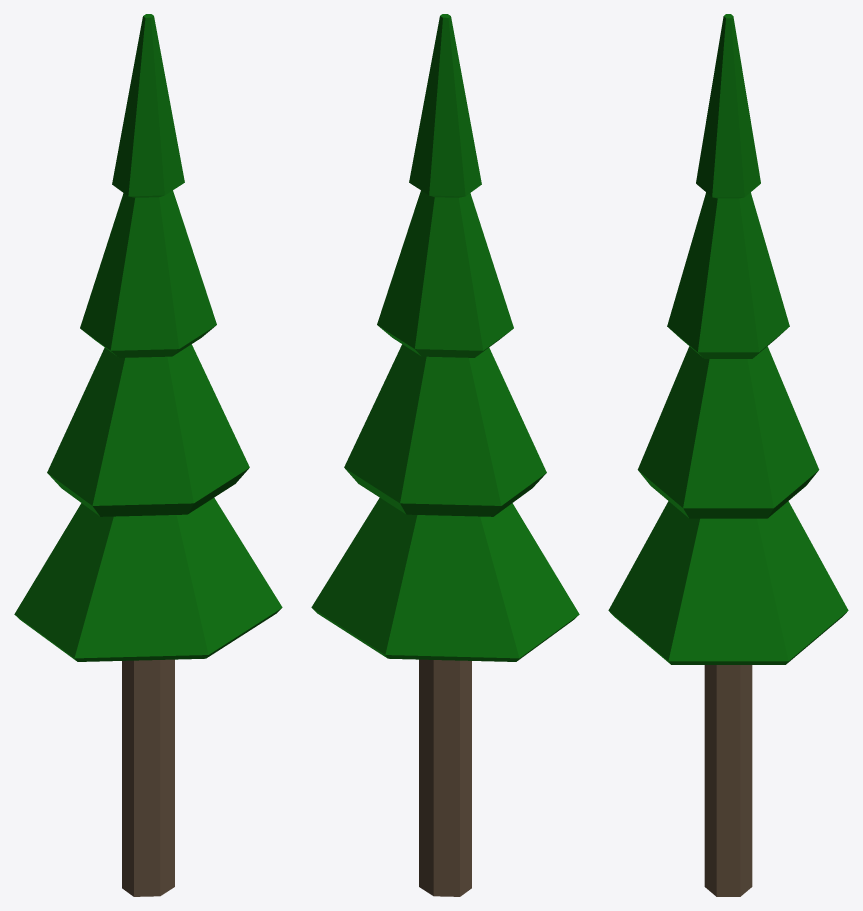
The model's file is UnitTree_1.fbx.
3 renders of one model, left to right at view 1: azimuth 30°, elevation 25°; view 2: azimuth 150°, elevation 25°; view 3: azimuth 270°, elevation 25°, orthographic.
Visible parts, largest first — view 1: Tree; view 2: Tree; view 3: Tree.
Boxes of the visible parts, x1,y1,x2,y2 form: Tree: (14, 14, 282, 896); Tree: (311, 14, 579, 896); Tree: (608, 14, 848, 896).
Bounding box in the file's own units: 25 × 100 × 25.
